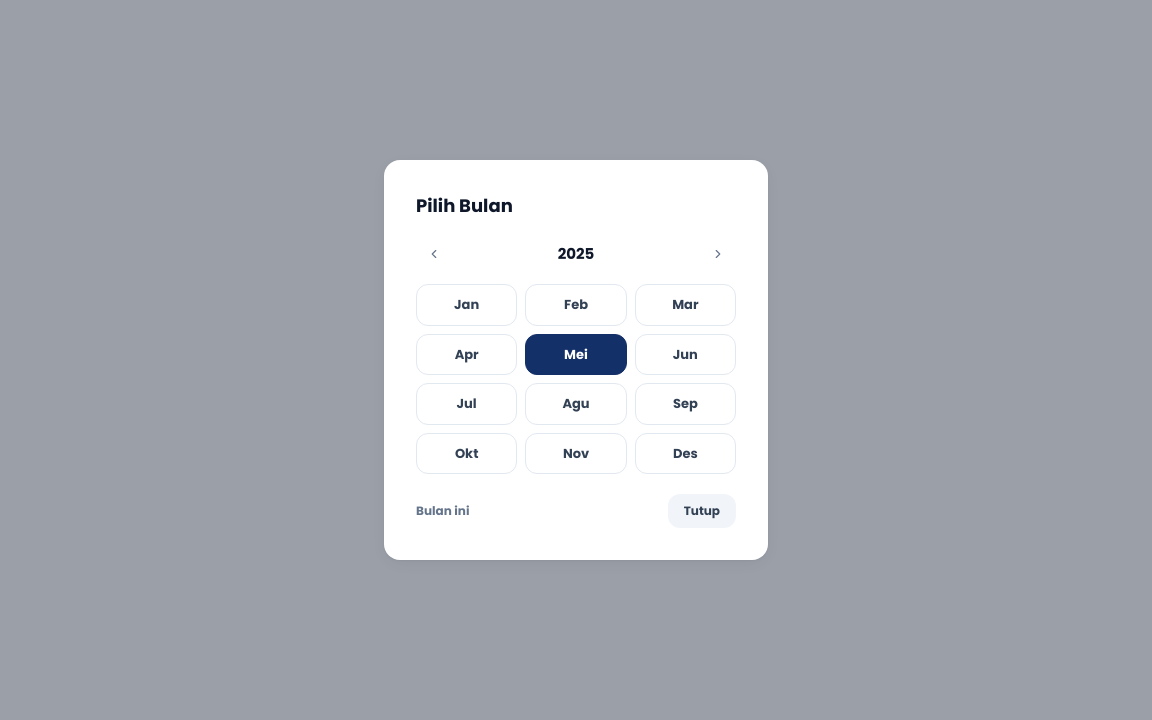
Test case: MonthPickerModal › steps the visible year within the allowed range
Check: the text with test id "month-picker-year" reads "2025", box [558,243,594,264]
Click the button with test id "month-picker-next-year": (718, 254) [700,236,736,272]
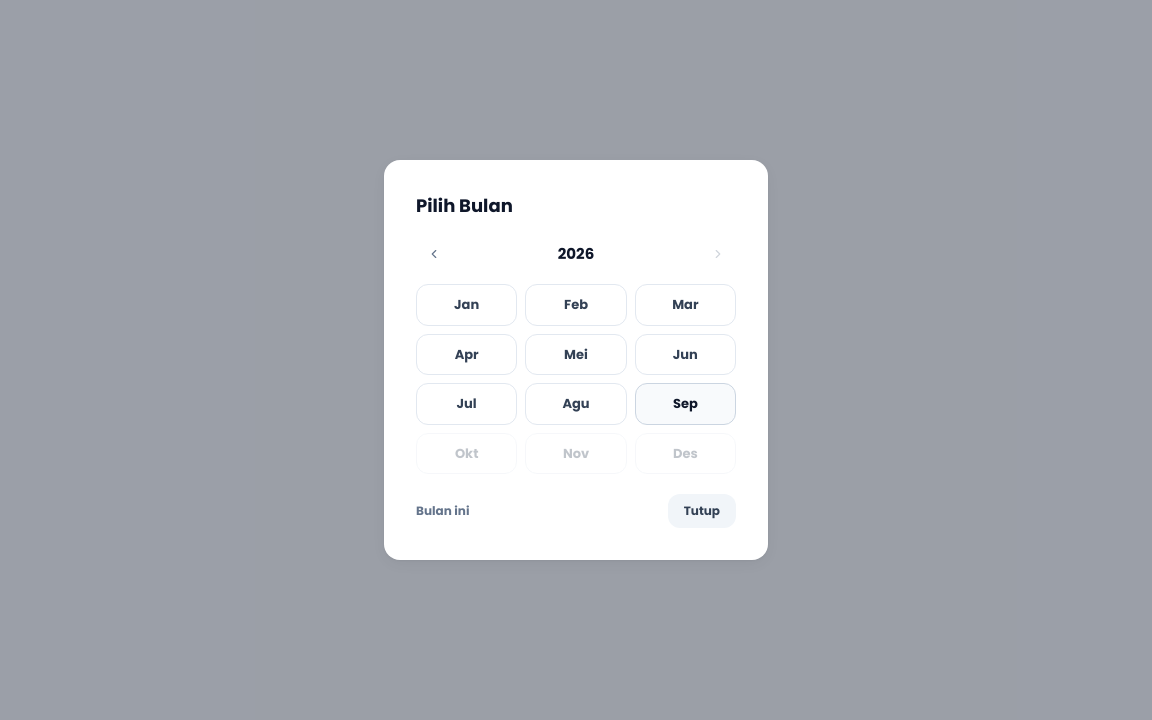
Check: the text with test id "month-picker-year" reads "2026", box [558,243,594,264]
Click the button with test id "month-picker-prev-year": (434, 254) [416,236,452,272]
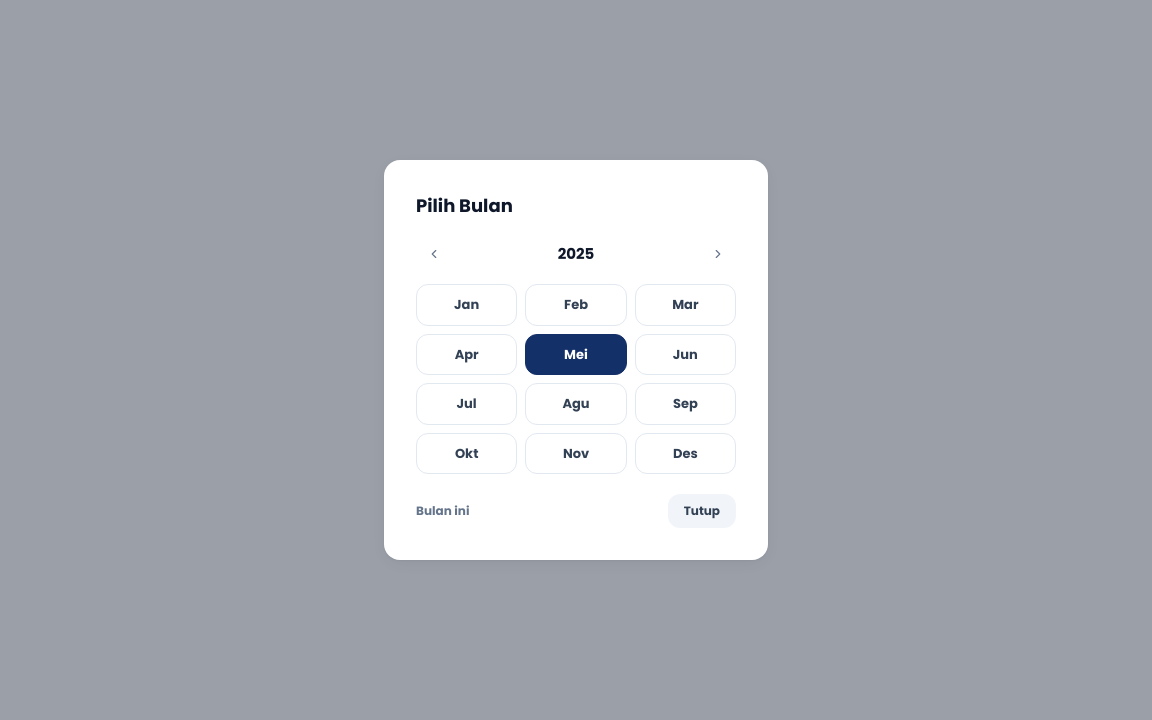
Click the button with test id "month-picker-prev-year": (434, 254) [416,236,452,272]
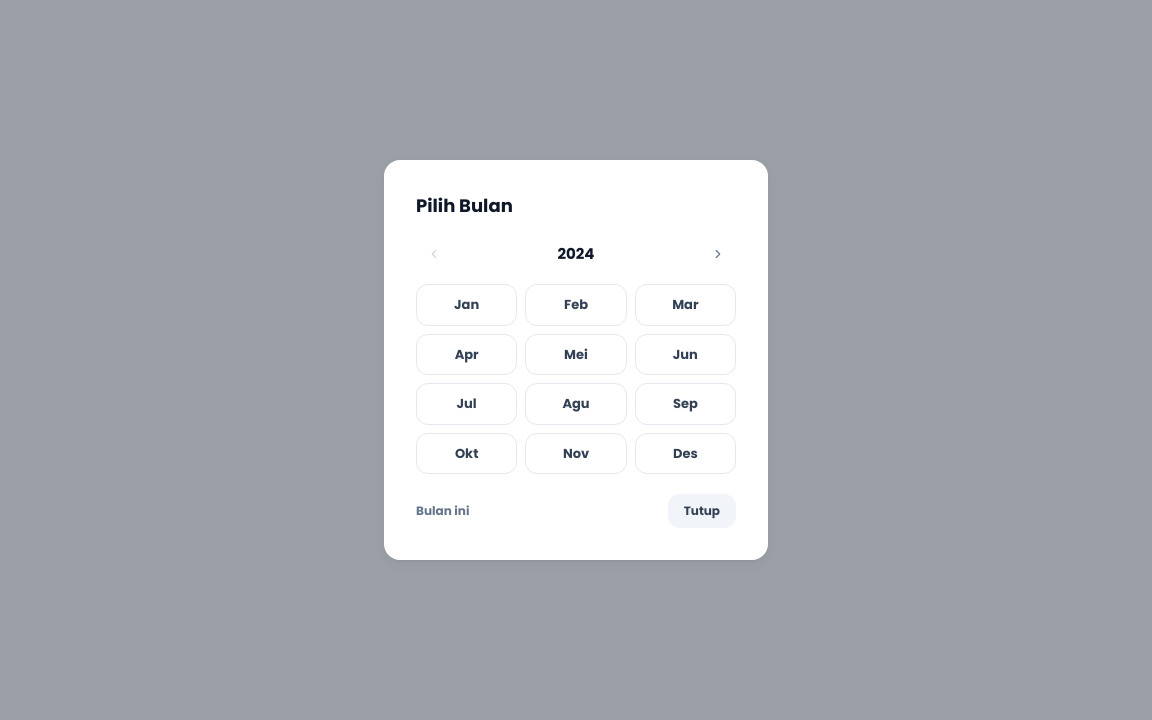
Check: the text with test id "month-picker-year" reads "2024", box [558,243,595,264]
